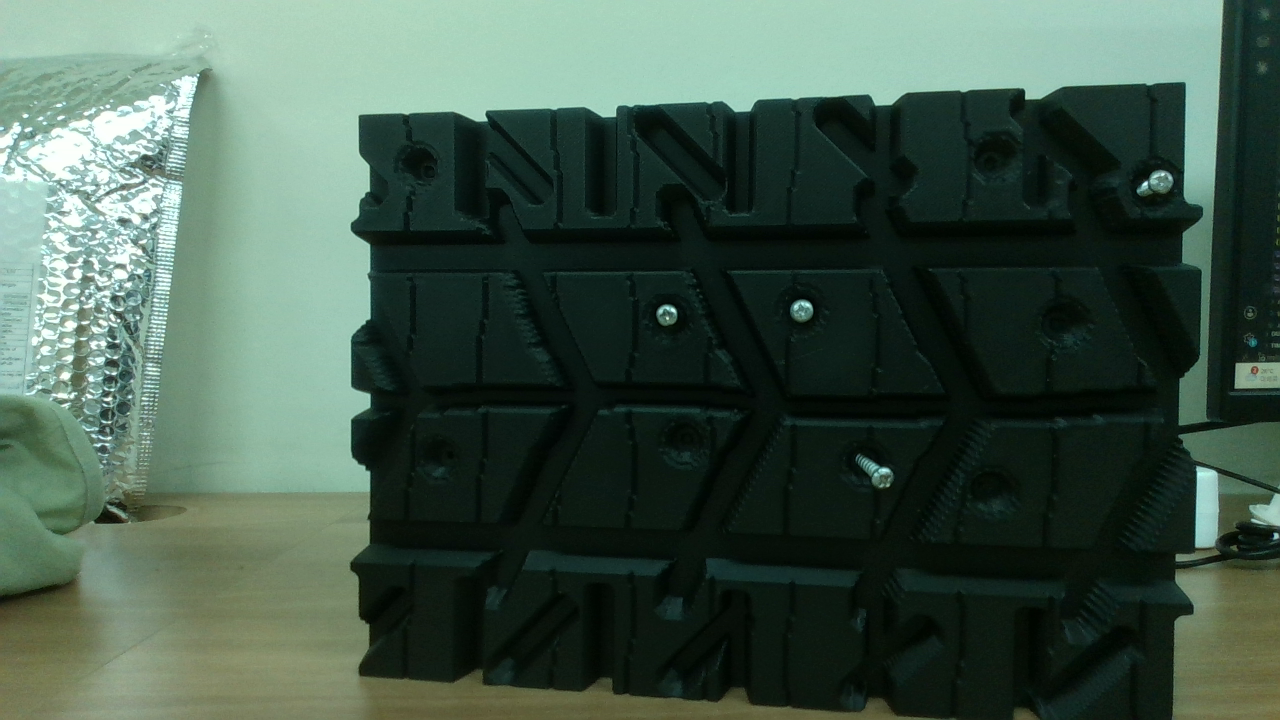screw_head: (787, 299, 813, 325), (871, 467, 897, 493), (657, 301, 681, 325), (1153, 167, 1177, 191)
stud_hole: (649, 416, 705, 472), (970, 131, 1022, 183), (962, 463, 1014, 515), (412, 435, 464, 487), (395, 139, 445, 189), (1038, 301, 1088, 351)
